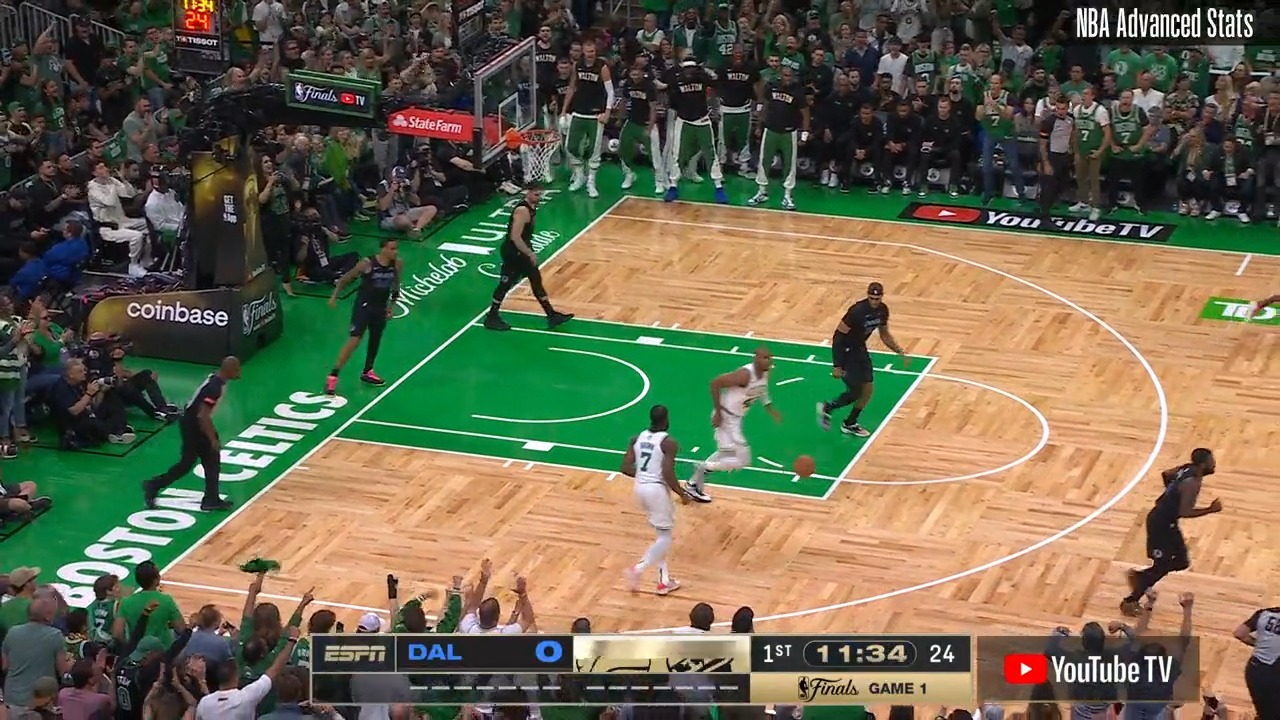basketball: (793, 454, 815, 479)
